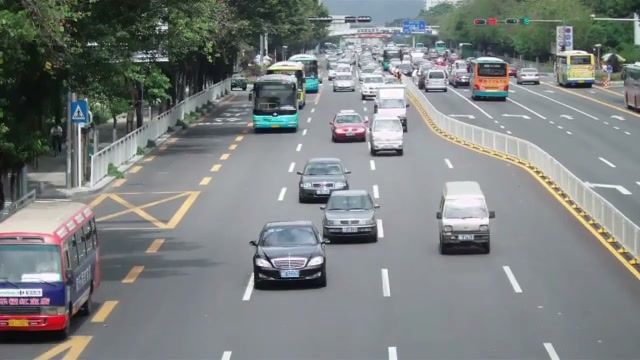bus: (0, 198, 102, 338), (252, 73, 299, 133), (267, 61, 305, 108), (469, 57, 510, 100), (554, 50, 596, 88), (288, 54, 320, 90), (623, 62, 640, 111)
car: (248, 220, 328, 289), (436, 182, 494, 255), (320, 189, 381, 244), (296, 157, 352, 203), (372, 85, 409, 132), (367, 116, 405, 156), (329, 109, 369, 143), (359, 74, 385, 100), (423, 70, 448, 93), (517, 67, 540, 85), (332, 75, 356, 92), (508, 66, 518, 79)
truck: (622, 62, 640, 112)
